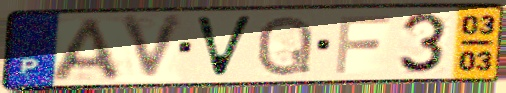3: (394, 10, 453, 76)
A: (46, 16, 127, 83)
F: (331, 13, 393, 76)
Q: (253, 13, 316, 79)
V: (117, 12, 189, 84), (191, 14, 258, 80)
